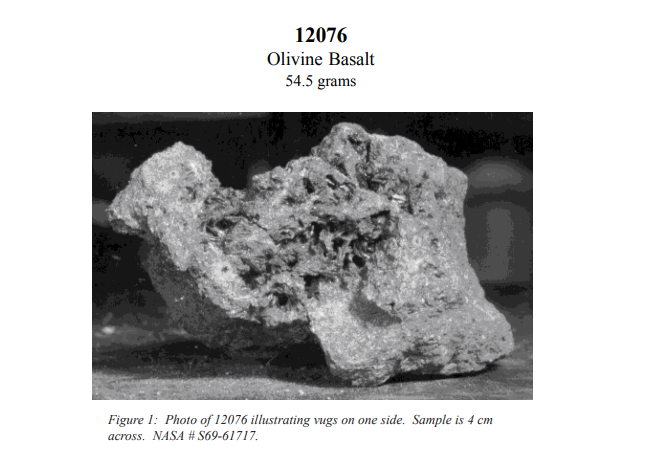Basalt: (90, 110, 528, 395)
